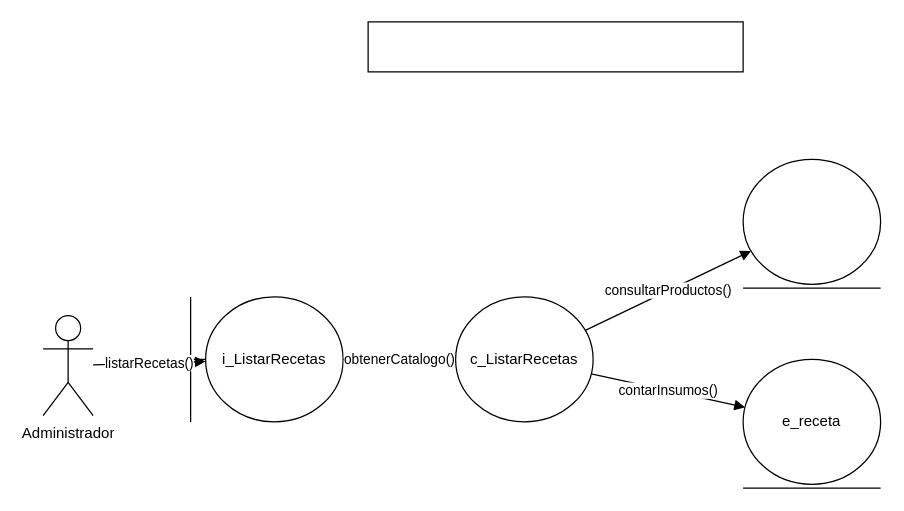
The diagram is 904 pixels wide and 511 high, and some of its shapes have lost their labels. Here are the shapes that lost their labels. From the top down, the box of each, then its label:
(367, 21, 743, 72): Listar Recetas CU-06
(742, 158, 881, 284): e_producto
